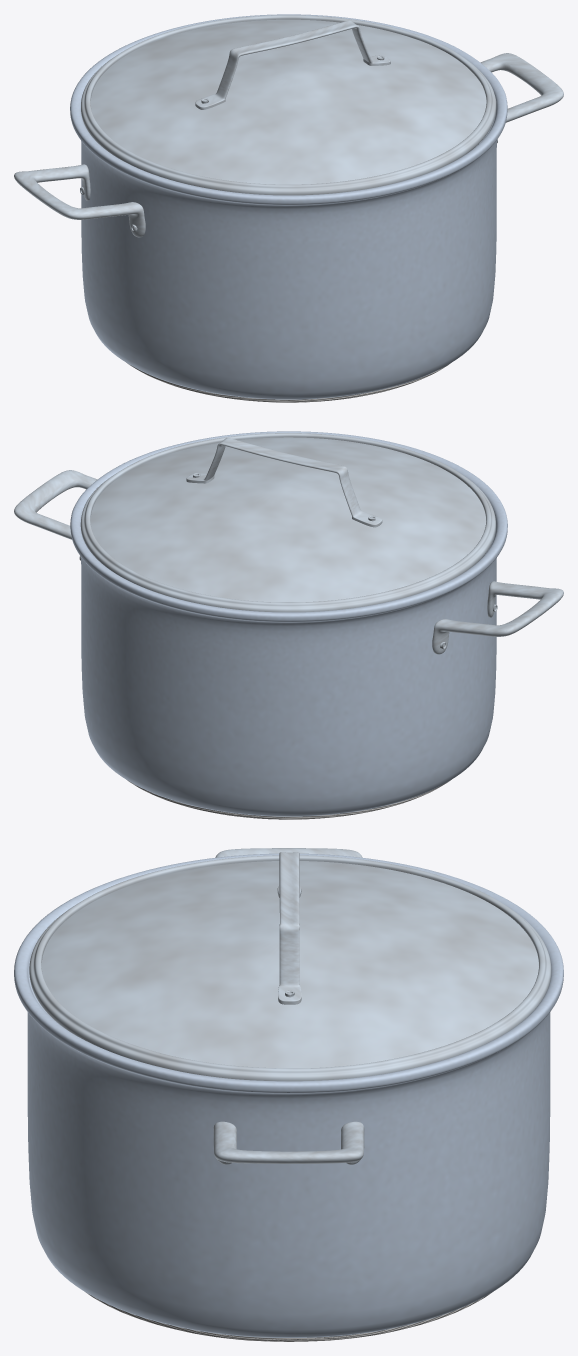
File: Cooking_pot1.fbx
3 views of the same model, one above another, from view 1: azimuth 30°, elevation 25°; view 2: azimuth 150°, elevation 25°; view 3: azimuth 270°, elevation 25° (orthographic). The views are drawn at different scales.
Parts seen in each view (by area): view 1: pot, pot_lid, pot_handle, handle_lid, ground; view 2: pot, pot_lid, pot_handle, handle_lid, ground; view 3: pot, pot_lid, pot_handle, handle_lid, ground.
Boxes of the visible parts, x1,y1,x2,y2 form: pot: [70, 14, 507, 399]; pot_lid: [81, 15, 496, 195]; pot_handle: [14, 53, 563, 237]; handle_lid: [195, 20, 390, 109]; ground: [127, 363, 450, 402]; pot: [70, 431, 507, 816]; pot_lid: [80, 433, 495, 612]; pot_handle: [14, 470, 563, 654]; handle_lid: [186, 438, 382, 527]; ground: [127, 780, 450, 819]; pot: [14, 853, 563, 1337]; pot_lid: [29, 855, 551, 1081]; pot_handle: [213, 848, 364, 1164]; handle_lid: [277, 852, 301, 1004]; ground: [85, 1292, 492, 1341].
Bounding box in the file's own units: 38.52 × 20.82 × 28.9.
